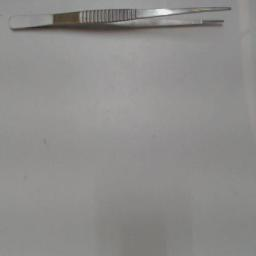DeBakey Dissector: (3, 4, 239, 36)
